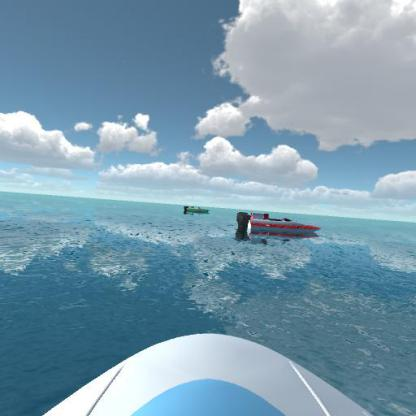usv0: (179, 198, 213, 218)
usv3: (233, 206, 325, 245)
